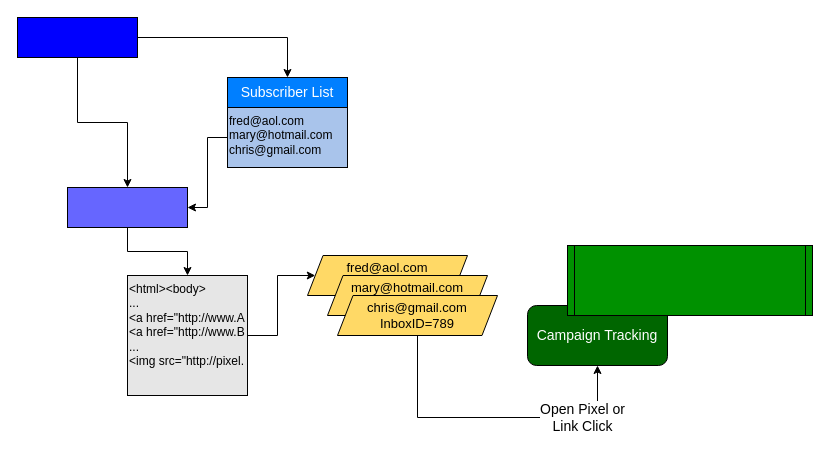
The diagram is 830 pixels wide and 451 high, and some of its shapes have lost their labels. Each missing label, with the box of its shape:
Campaign: (66, 186, 188, 228)
Company: (16, 16, 138, 58)
InboxID RequestType (Open/Click) IPAddress UserAgent: (566, 244, 812, 316)
